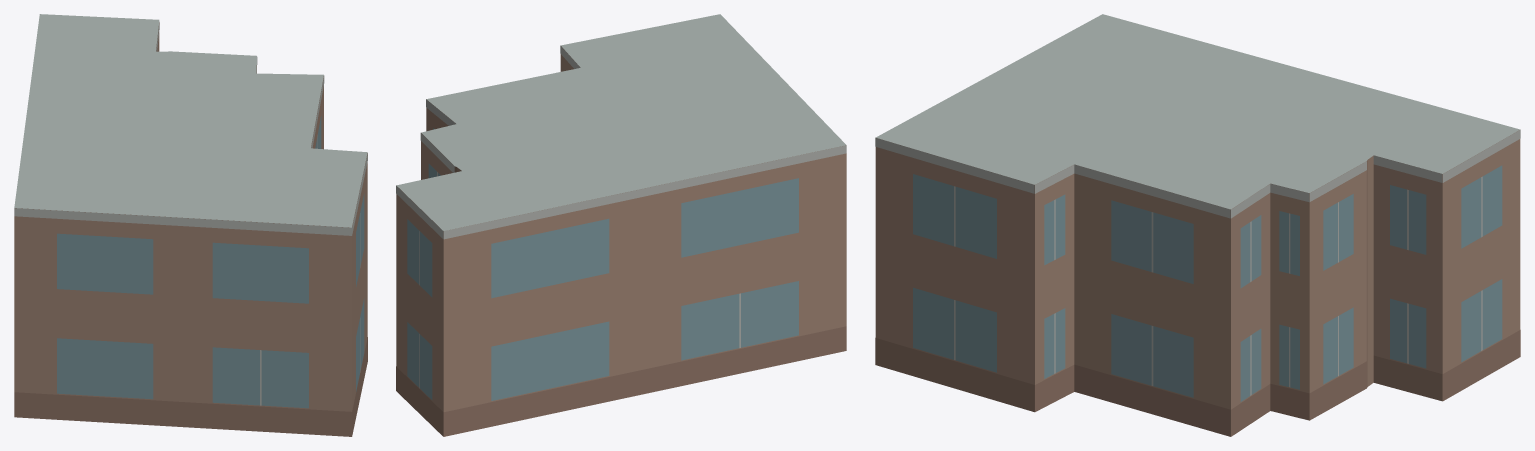
File: survey-upis-32751248.glb
The picture shows the model from 3 angles, left to right: view 1: azimuth 30°, elevation 25°; view 2: azimuth 150°, elevation 25°; view 3: azimuth 270°, elevation 25°; orthographic projection. The views are drawn at different scales.
Visible parts, largest first — view 1: survey-upis-32751248.tmp; view 2: survey-upis-32751248.tmp; view 3: survey-upis-32751248.tmp.
Part boxes in pixels (bbox=[...]): survey-upis-32751248.tmp: bbox=[14, 14, 367, 436]; survey-upis-32751248.tmp: bbox=[396, 14, 846, 436]; survey-upis-32751248.tmp: bbox=[875, 14, 1520, 436].
Bounding box in the file's own units: 11.26 × 6.1 × 15.7.
